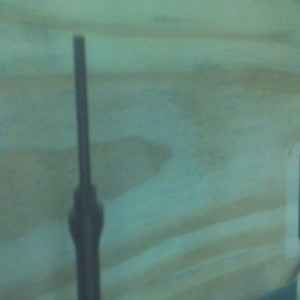obeng: (66, 32, 106, 300)
